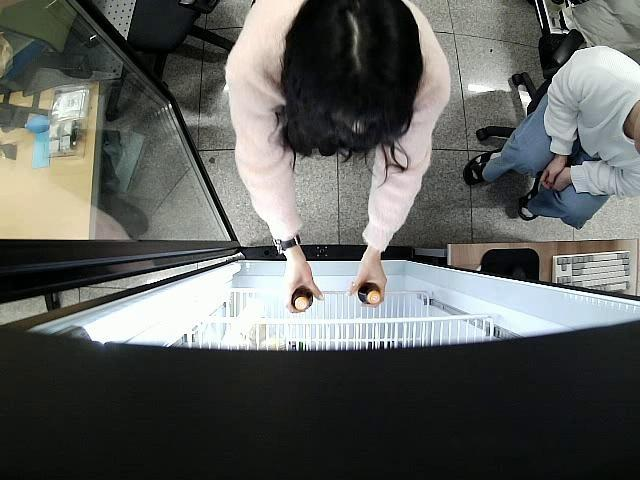17_vita500: (352, 282, 382, 307), (290, 287, 314, 314)
